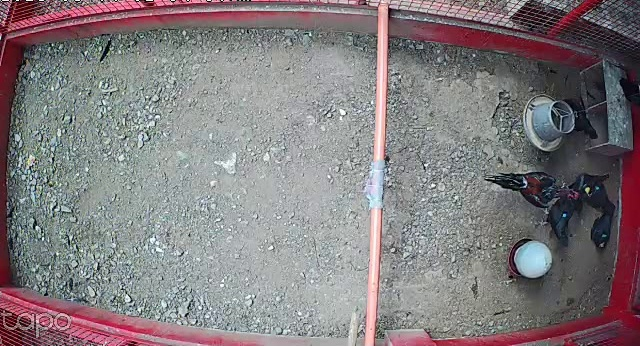Chicken: (535, 183, 575, 246), (555, 167, 610, 208), (561, 90, 604, 142), (582, 178, 628, 221), (589, 207, 618, 251)
Rooster: (477, 161, 582, 209)
Saddle_Color_Blue: (562, 213, 567, 217)
Saddle_Color_Yellow: (585, 184, 593, 200)
